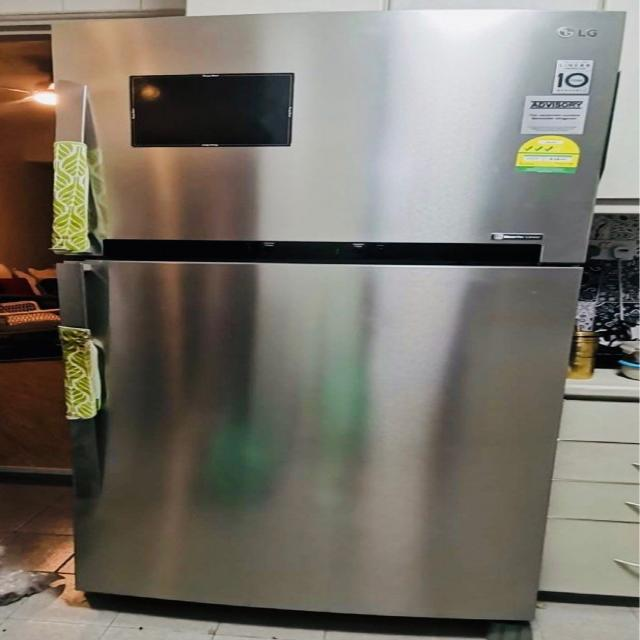refrigerator: (50, 10, 626, 636)
